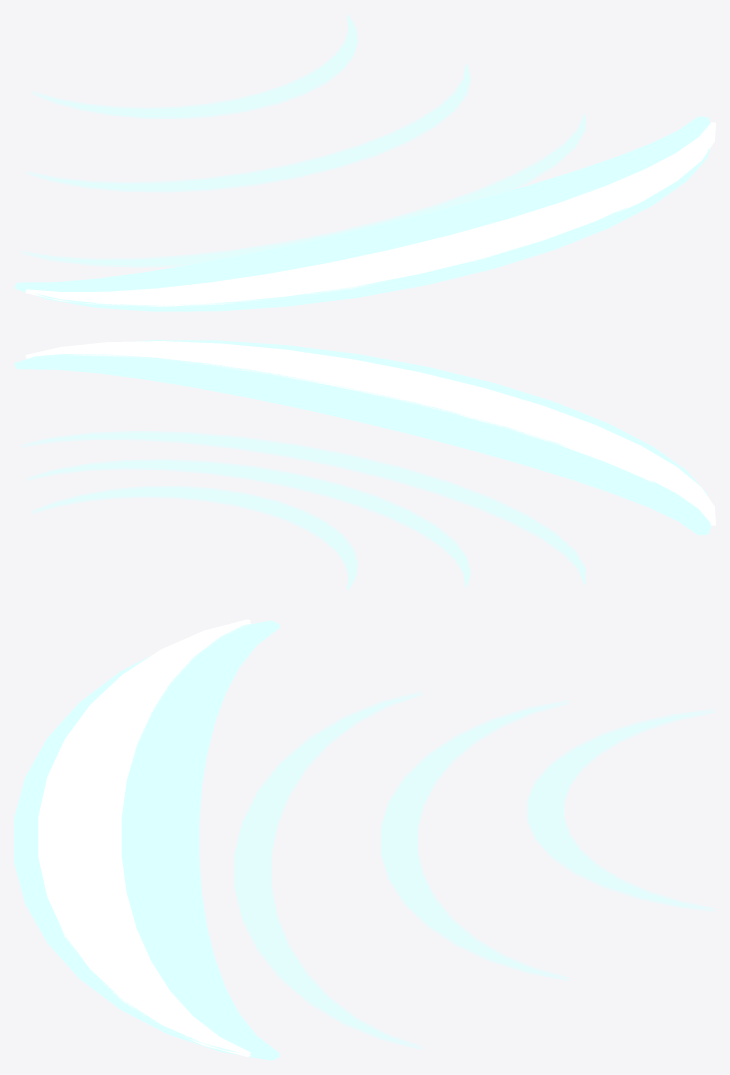
File: fx_wind_blade_v01.glb
3 views of the same model, one above another, from view 1: azimuth 30°, elevation 25°; view 2: azimuth 150°, elevation 25°; view 3: azimuth 270°, elevation 25° (orthographic). The views are drawn at different scales.
Parts seen in each view (by area): view 1: wind_blade; view 2: wind_blade; view 3: wind_blade.
Part boxes in pixels (x1,y1,x2,y2): wind_blade: (14,14,715,311); wind_blade: (14,340,715,590); wind_blade: (14,619,715,1060).
Bounding box in the file's own units: 1.56 × 0.104 × 1.05.
